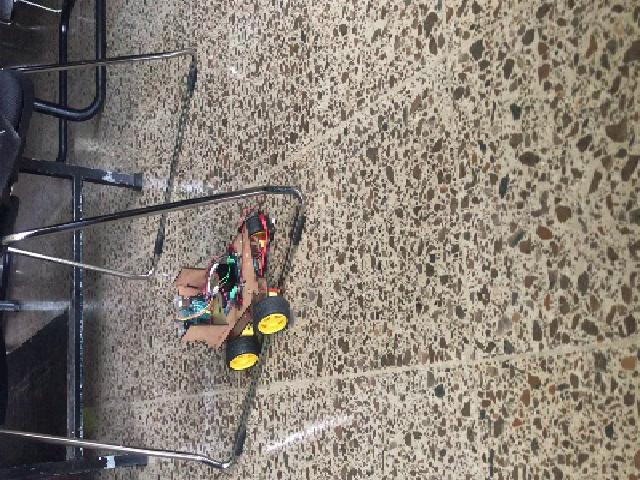Robot: (173, 214, 290, 371)
